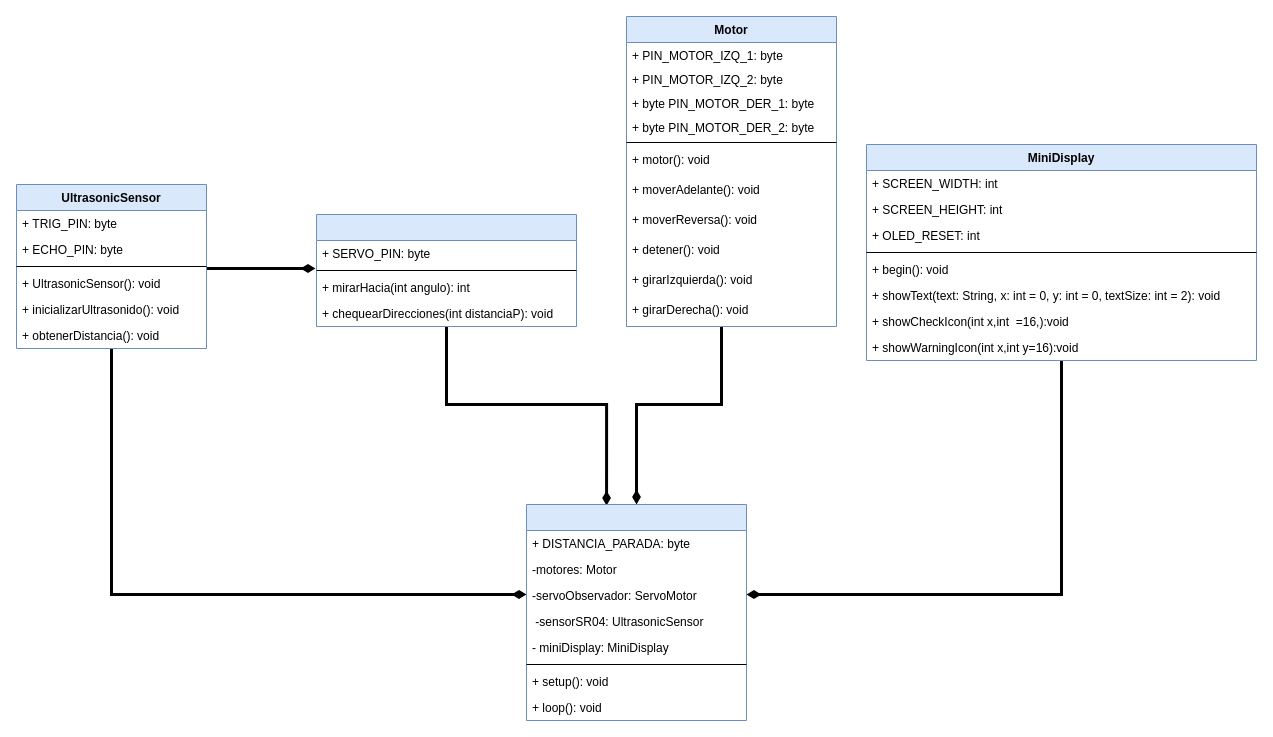
Some shapes in this 1273 by 737 pixel diagram are drawn without their labels. The shapes that lost their labels are listed below. From the top down, each one's box as (x1, y1, x2, y2) in pixels, then its label:
(316, 214, 576, 326): ServoMotor
(526, 504, 746, 720): Main
